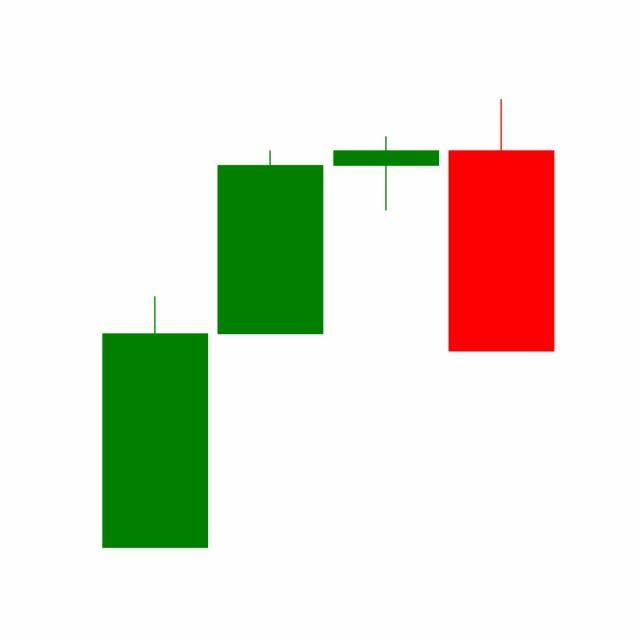Hammer: (329, 135, 445, 213)
